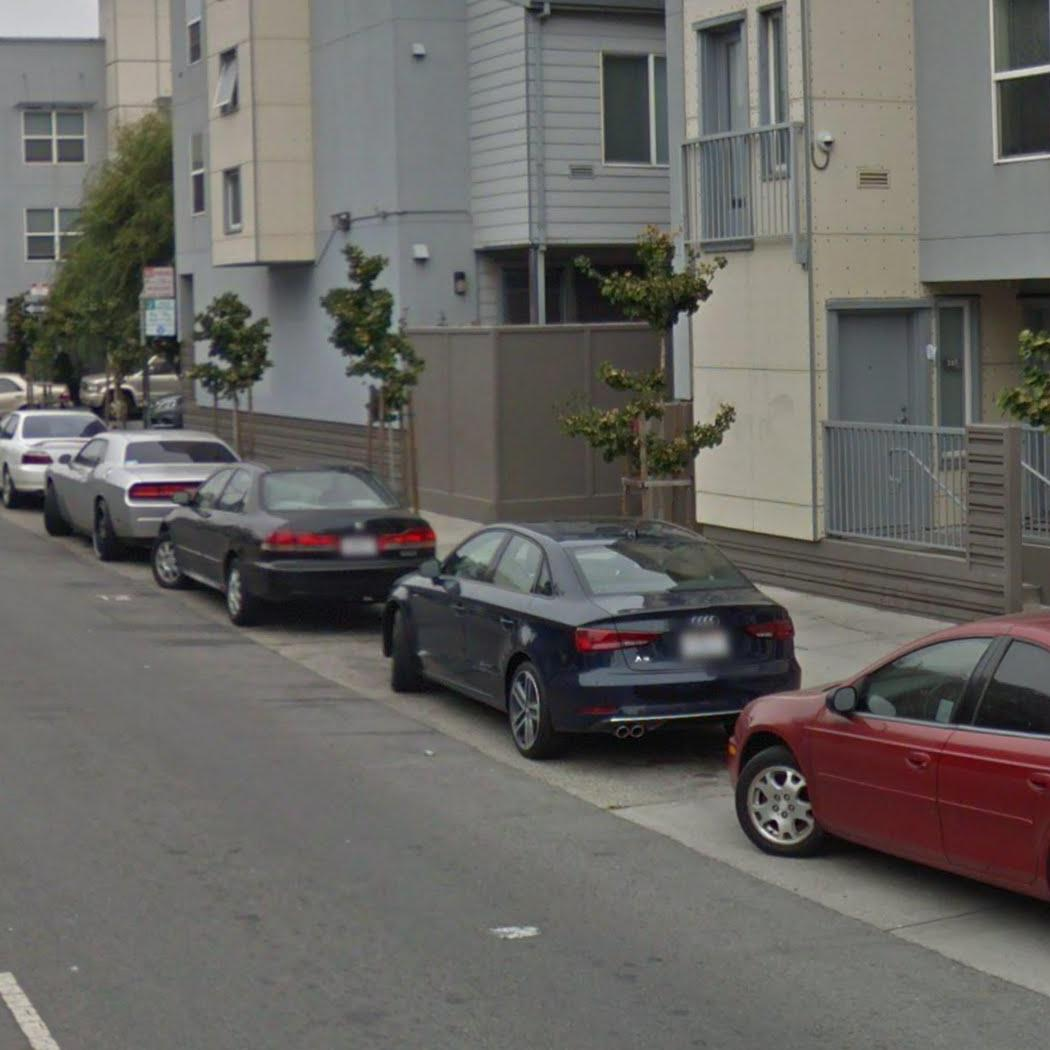2 Hour Parking: (143, 297, 176, 337)
No Parking: (142, 265, 175, 298)
